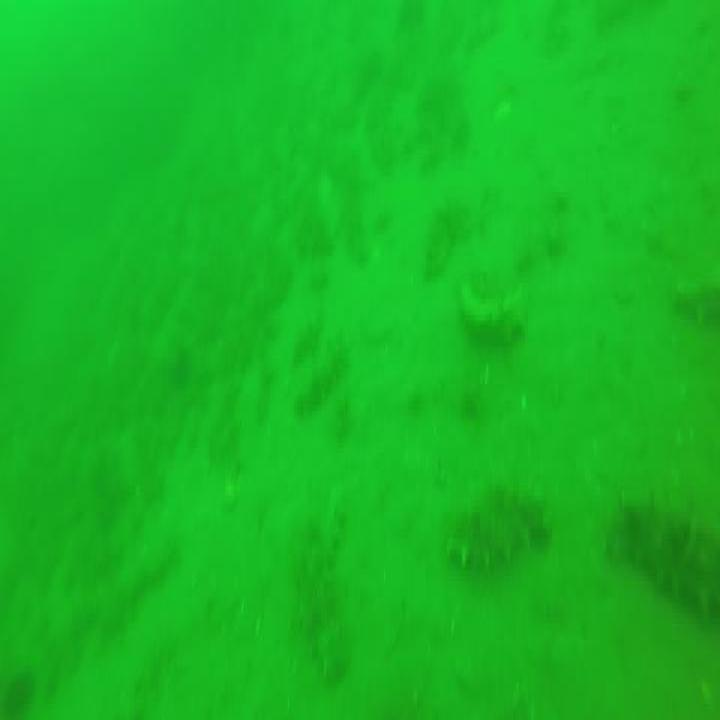holothurian: (611, 492, 720, 618), (449, 487, 553, 585)
